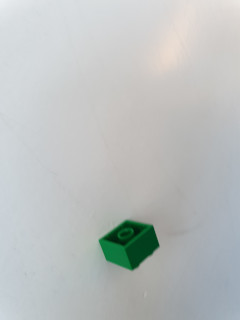2x2 green: (98, 219, 160, 272)
